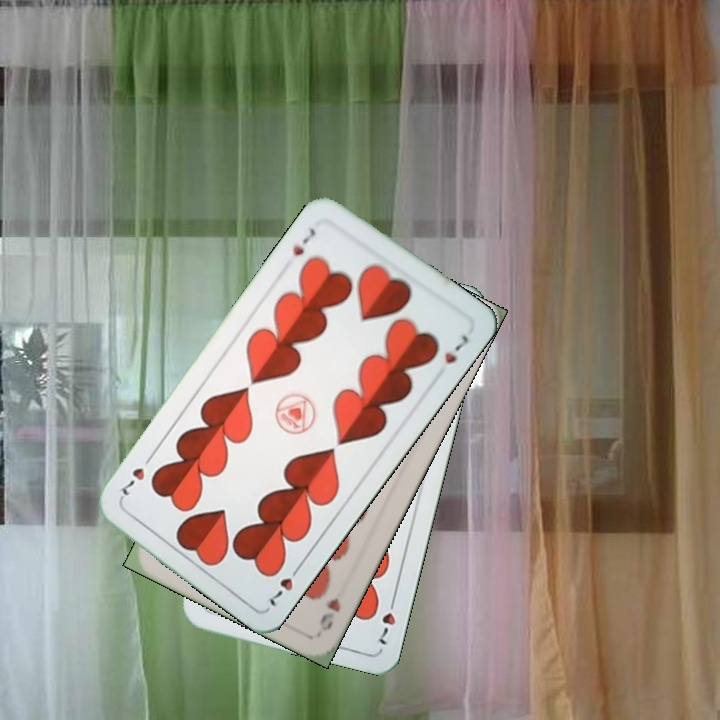H7: (265, 560, 305, 610), (375, 591, 399, 648), (288, 223, 318, 259)
H9: (315, 593, 344, 634)
